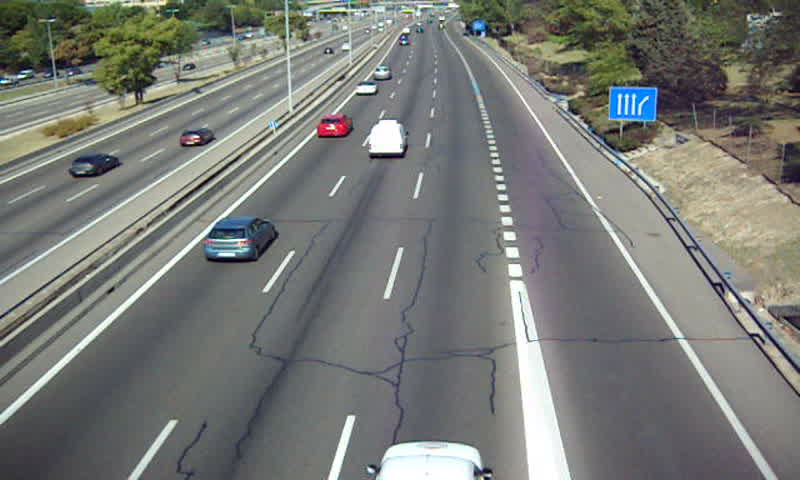car: (203, 216, 277, 262), (317, 115, 352, 138), (354, 81, 377, 94), (374, 66, 391, 80)
van: (368, 120, 407, 155)
